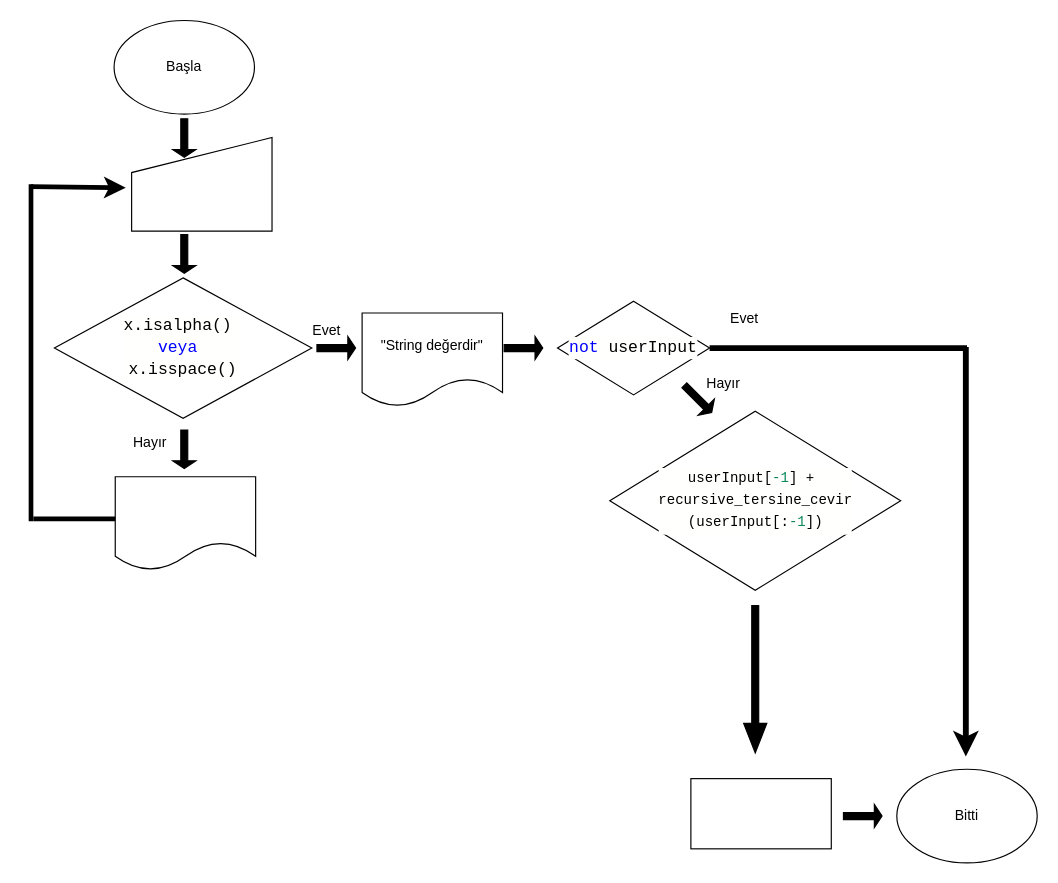
Image size: 1058x883. Some labels were removed from this diagram. Each missing label, with the centre of its shape:
"Geçersiz değer, tekrar giriş yapınız.": (185,523)
Sonucu ekrana yazdır: (760,813)
String ifade girin: (201,183)
